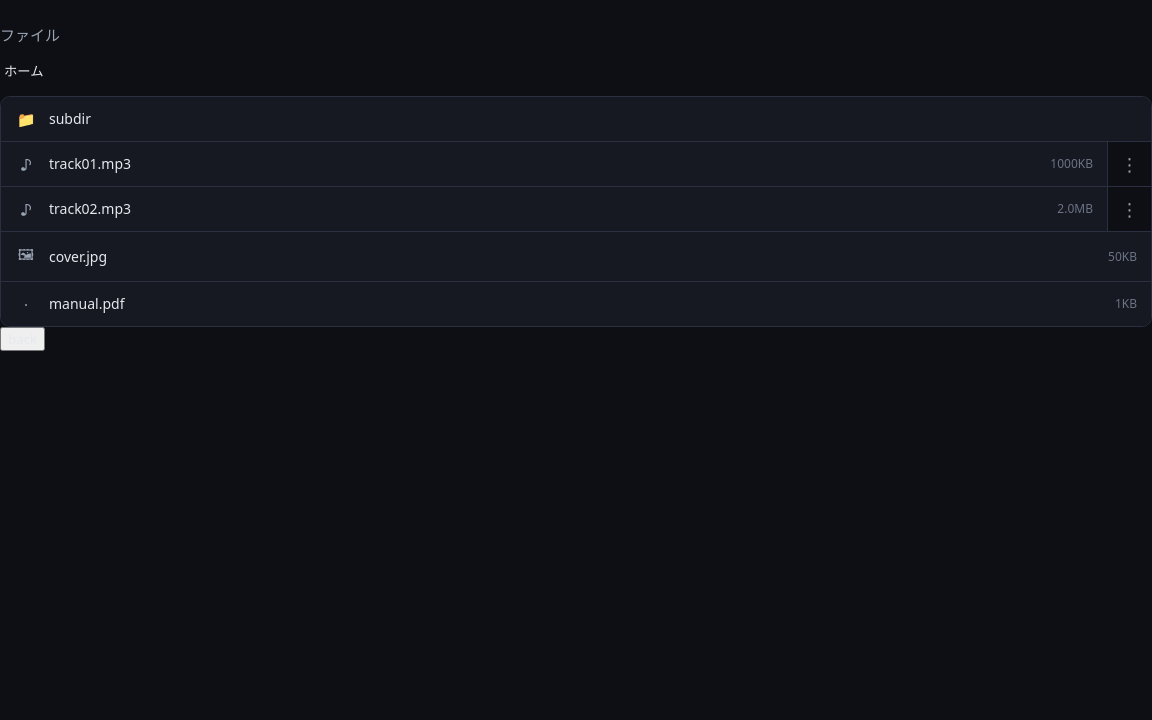
Test: FileBrowser ボトムシートの開閉 › キャンセルボタンでシートが閉じる
Expected: the text "track01.mp3" is shown, [49,154,131,173]
Click the button named "track01.mp3 のキュー操作": coordinates (1129, 164) [1107,142,1151,186]
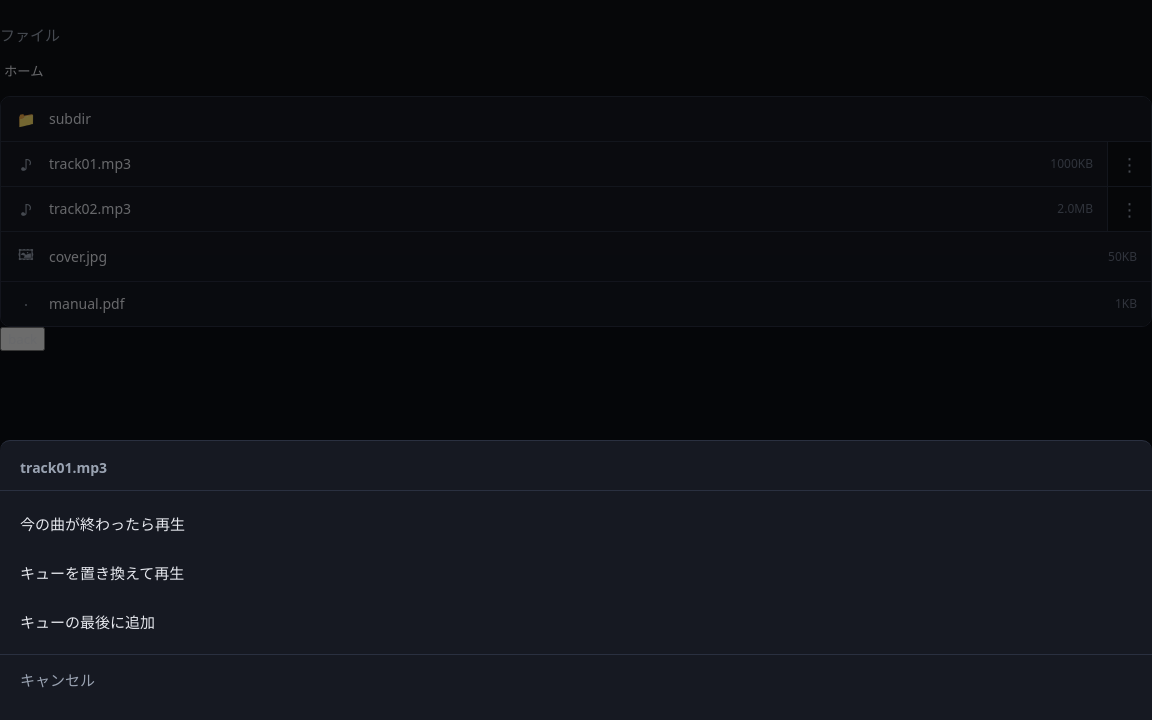
Expected: the dialog is shown, [0,440,1151,719]
Click the button "キャンセル": coordinates (58, 680) [0,654,1151,704]
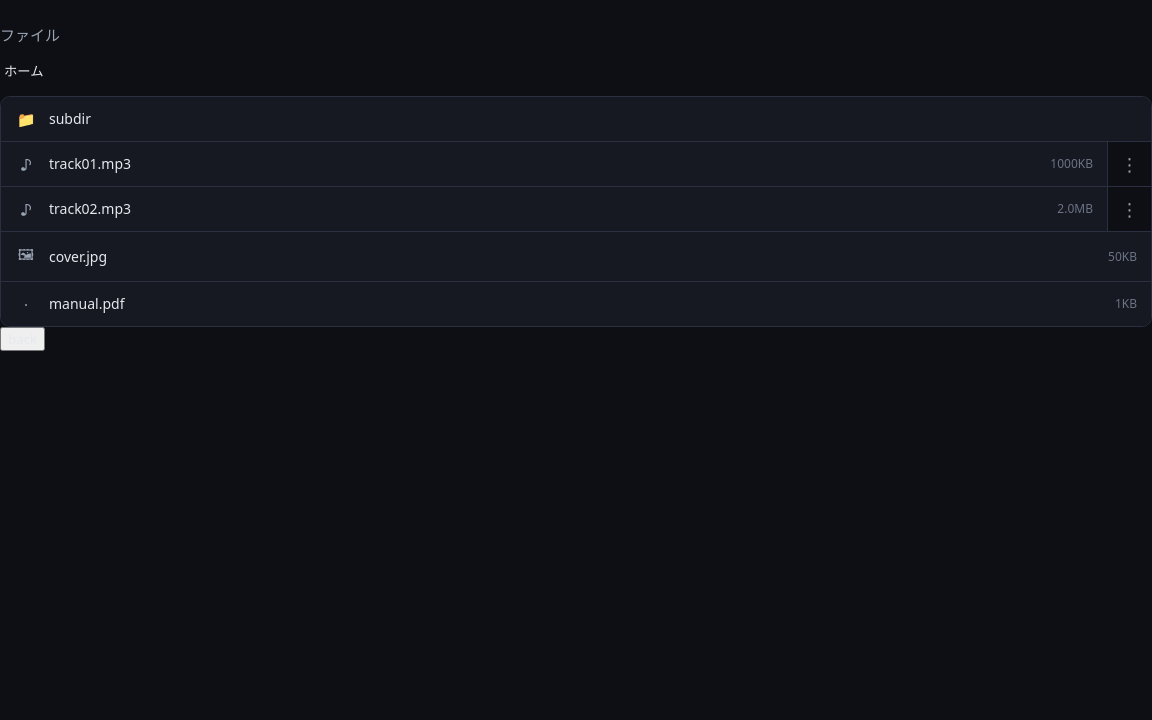
Expected: the dialog is gone
